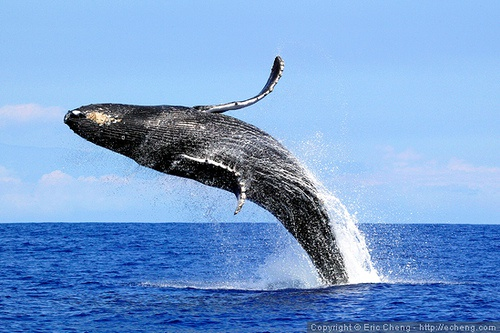humpback: (63, 107, 350, 279)
